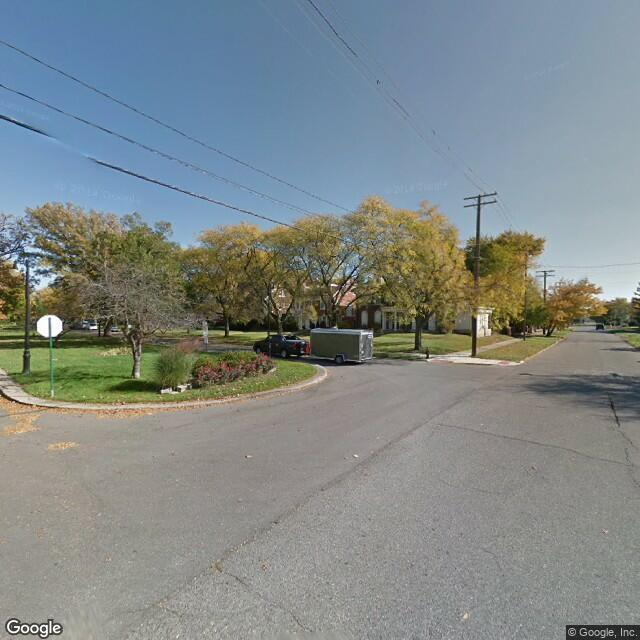litter: (94, 392, 106, 401), (231, 386, 239, 398), (8, 397, 18, 405)
